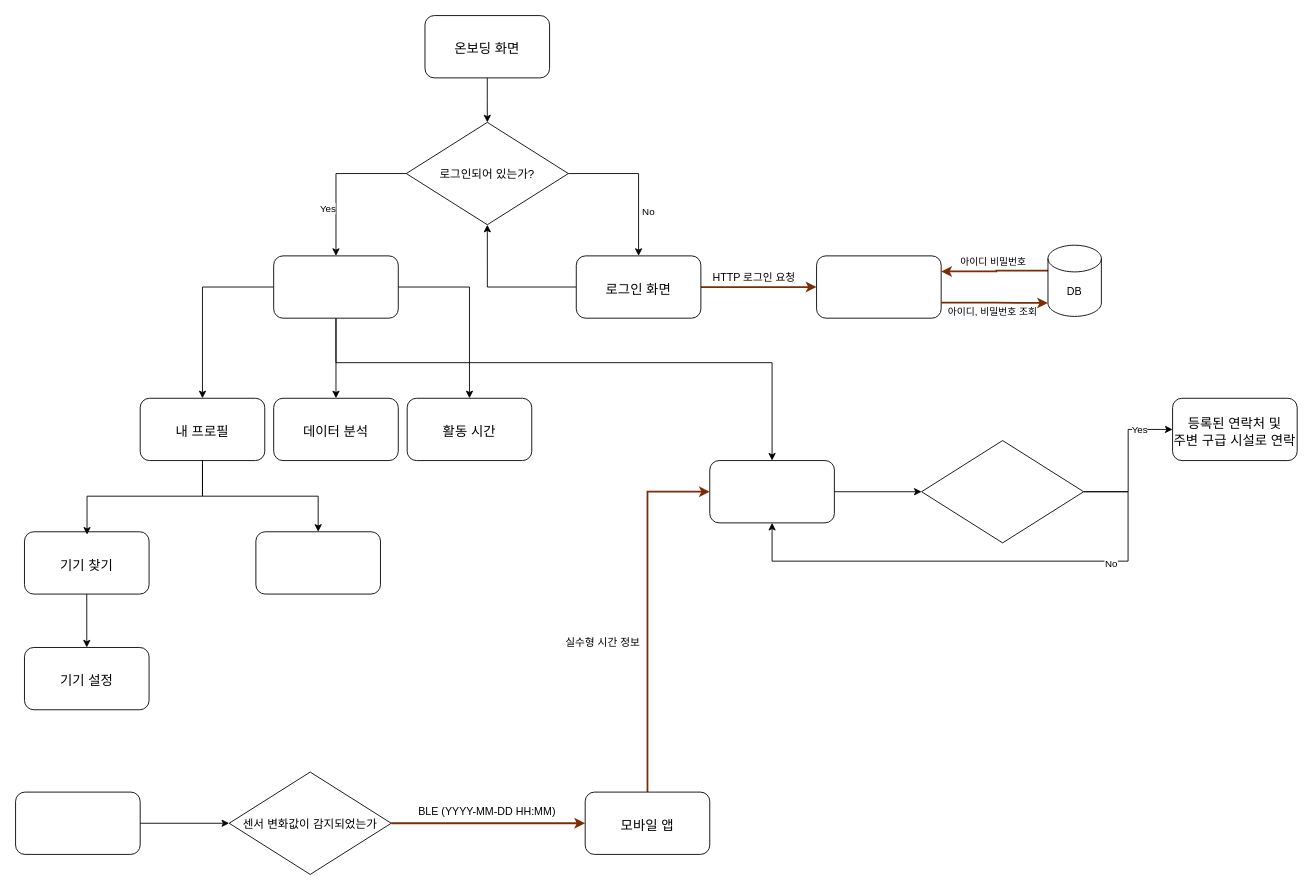
Image size: 1313x890. Some labels were removed from this diagram. Here are the shapes that lost their labels. From the top down, the centre of each, then its label:
At [335,286]: "홈 화면".
At [878,286]: "백엔드".
At [771,491]: "인공지능 모델".
At [1002,491]: "위급상황인가?".
At [317,562]: "연락처 등록".
At [77,822]: "센서모듈".
